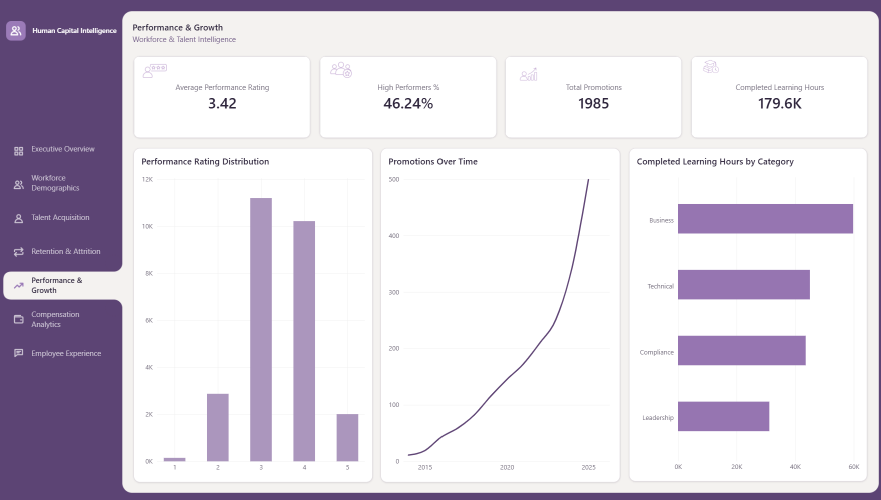

The dashboard page shown, as its layout file describes it:
{"tool":"powerbi","page":{"name":"Performance & Growth","canvas":[1920,1080],"ordinal":5},"visuals":[{"type":"cardVisual","title":"KPI card 1","fields":{"Data":["fact_performance_reviews.Average Performance Rating"]},"box":[300,120,379,176],"z":0},{"type":"cardVisual","title":"KPI card 2","fields":{"Data":["fact_performance_reviews.High Performers %"]},"box":[698,120,379,176],"z":1000},{"type":"cardVisual","title":"KPI card 3","fields":{"Data":["fact_promotions.Total Promotions"]},"box":[1095,120,379,176],"z":2000},{"type":"cardVisual","title":"KPI card 4","fields":{"Data":["fact_learning_completions.Completed Learning Hours"]},"box":[1493,120,379,176],"z":3000},{"type":"clusteredColumnChart","title":"Performance Rating Distribution","fields":{"Category":["fact_performance_reviews.PerformanceRating"],"Y":["CountNonNull(fact_performance_reviews.ReviewID)"]},"box":[299.5,317.6,512.5,716.4],"z":4000},{"type":"lineChart","title":"Promotions Over Time","fields":{"Category":["fact_promotions.Promotion Year"],"Y":["fact_promotions.Total Promotions"]},"box":[830.1,317.6,512.5,716.4],"z":5000},{"type":"clusteredBarChart","title":"Completed Learning Hours by Category","fields":{"Category":["fact_learning_completions.CourseCategory"],"Y":["fact_learning_completions.Completed Learning Hours"]},"box":[1360.6,317.6,510.7,714.6],"z":6000},{"type":"textbox","title":"Company","box":[83,54,266,25],"z":7000},{"type":"textbox","title":"Page title","box":[298,45,269,32],"z":8000},{"type":"textbox","title":"Subtitle","box":[298,73,340,27],"z":9000},{"type":"pageNavigator","title":"Page navigation","box":[82,294,150,492],"z":10000},{"type":"image","box":[297.9,120,90,50],"z":11000},{"type":"image","box":[698.6,120,90,50],"z":12000},{"type":"image","box":[1105,130,90,50],"z":13000},{"type":"image","box":[1493.6,120,90,50],"z":14000}]}

Visuals, with their boxes on the page's 1920x1080 design canvas (x1, y1, x2, y2). These are canvas units, not pixel positions in the 881x500 screenshot, which may show the page scaled, cropped or inside an application window:
"KPI card 1" cardVisual: region(300, 120, 679, 296)
"KPI card 2" cardVisual: region(698, 120, 1077, 296)
"KPI card 3" cardVisual: region(1095, 120, 1474, 296)
"KPI card 4" cardVisual: region(1493, 120, 1872, 296)
"Performance Rating Distribution" clusteredColumnChart: region(300, 318, 812, 1034)
"Promotions Over Time" lineChart: region(830, 318, 1343, 1034)
"Completed Learning Hours by Category" clusteredBarChart: region(1361, 318, 1871, 1032)
"Company" textbox: region(83, 54, 349, 79)
"Page title" textbox: region(298, 45, 567, 77)
"Subtitle" textbox: region(298, 73, 638, 100)
"Page navigation" pageNavigator: region(82, 294, 232, 786)
image: region(298, 120, 388, 170)
image: region(699, 120, 789, 170)
image: region(1105, 130, 1195, 180)
image: region(1494, 120, 1584, 170)
